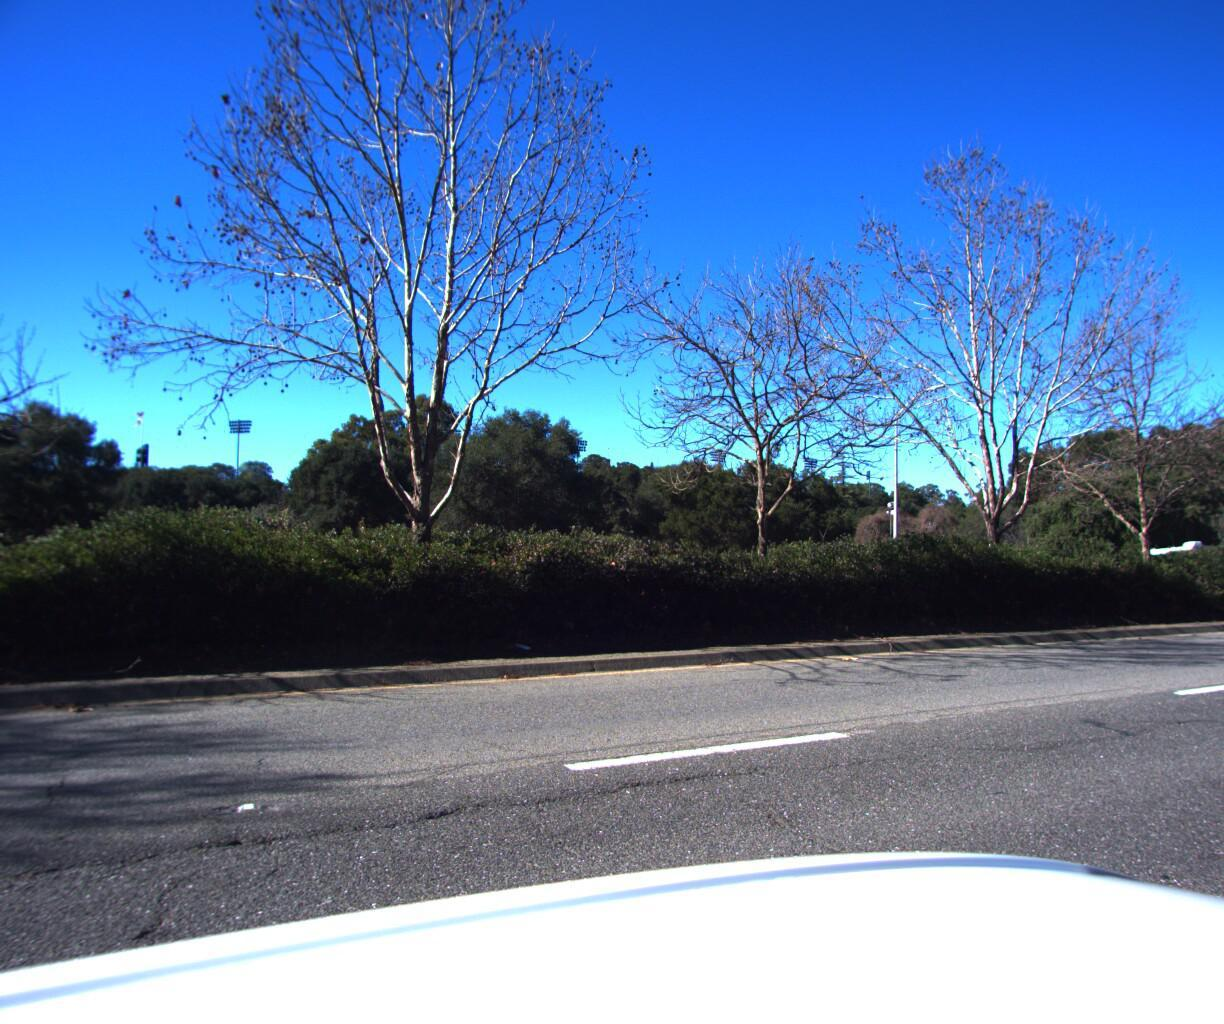other_vehicle: (1122, 532, 1224, 579)
